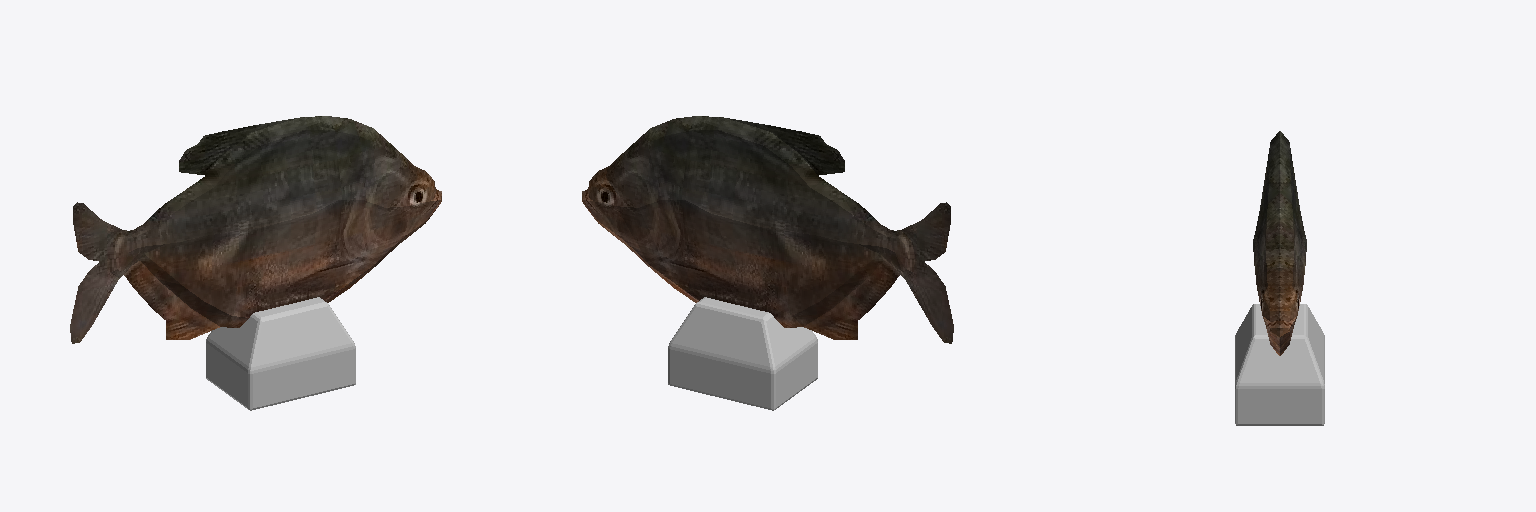
The picture shows the model from 3 angles: view 1: azimuth 30°, elevation 25°; view 2: azimuth 150°, elevation 25°; view 3: azimuth 270°, elevation 25°; orthographic projection.
Size of the model in its own units: 0.1905 by 0.13 by 0.04.
2 materials, 1 textured.